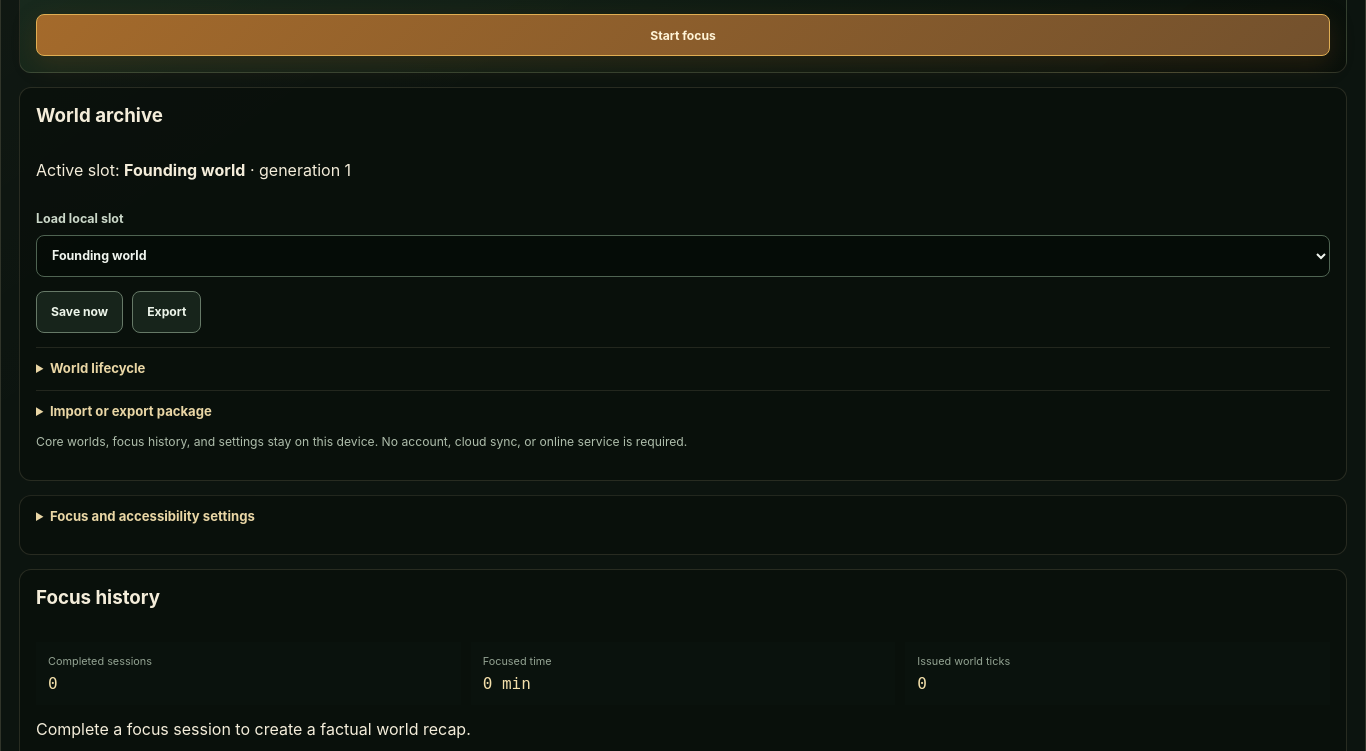
it: FocusPersistencePanel offline progression › persists a focus session after duplicating the current world changes archive authority
(page scrolled)
Click the heading "World lifecycle" at (98, 368), box [50,360,145,376]
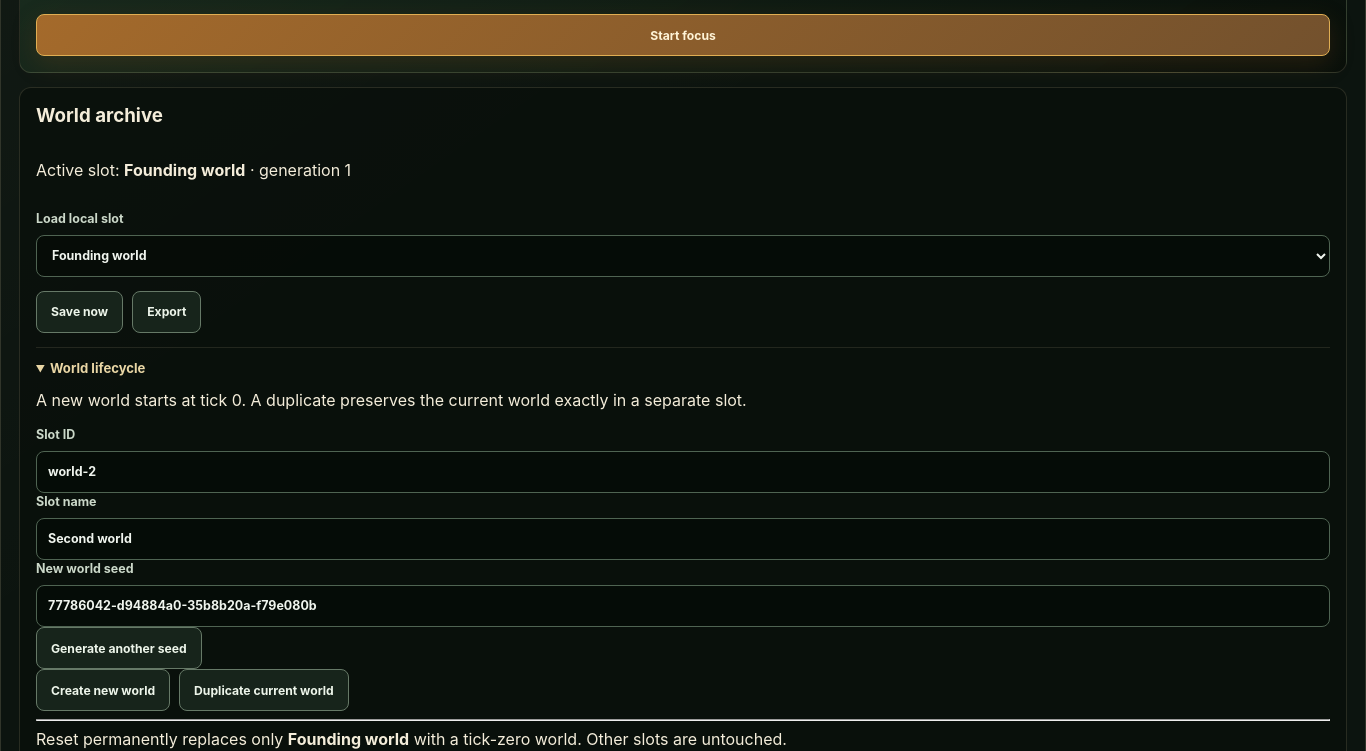
Click the button "Duplicate current world" at (264, 690), box [179,669,349,711]
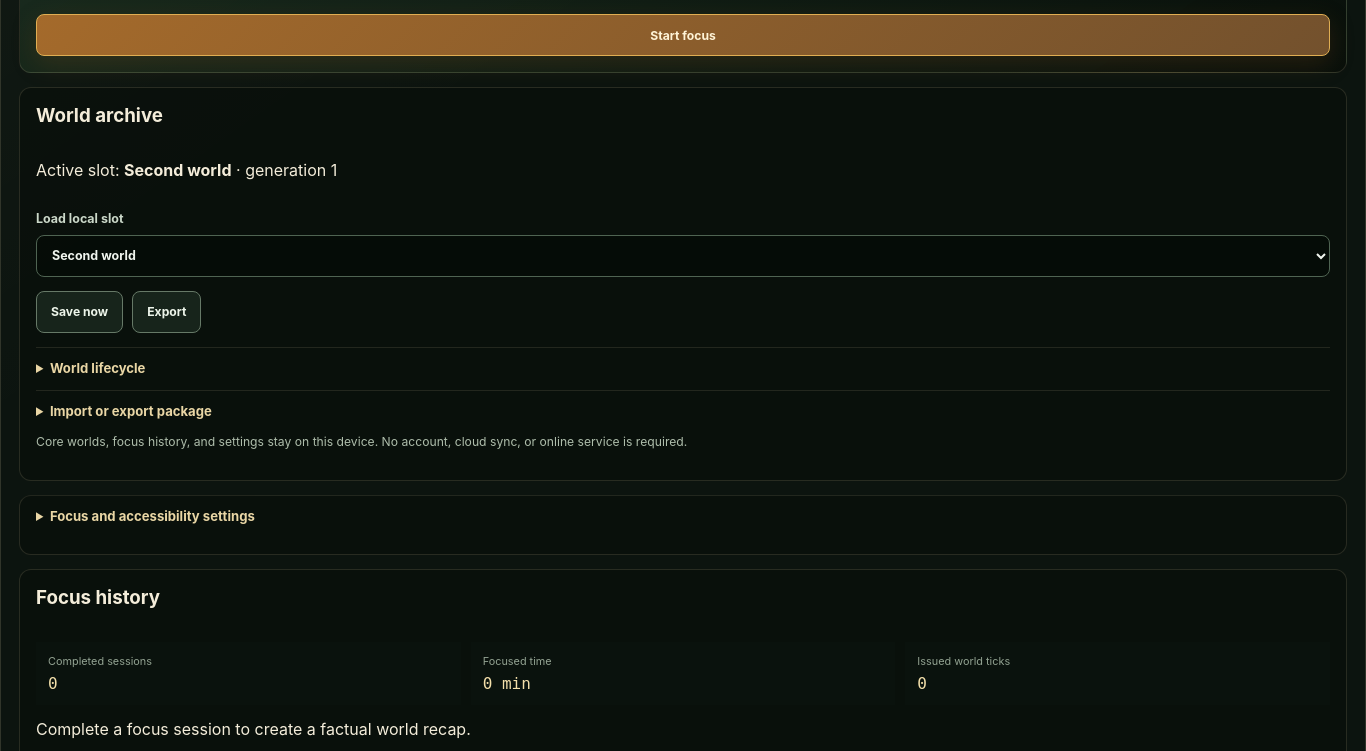
Now the dropdown labelled "Load local slot" shows "Second world", box [36,235,1330,277]
Click the button "Start focus" at (683, 35), box [36,14,1330,56]
(page scrolled)
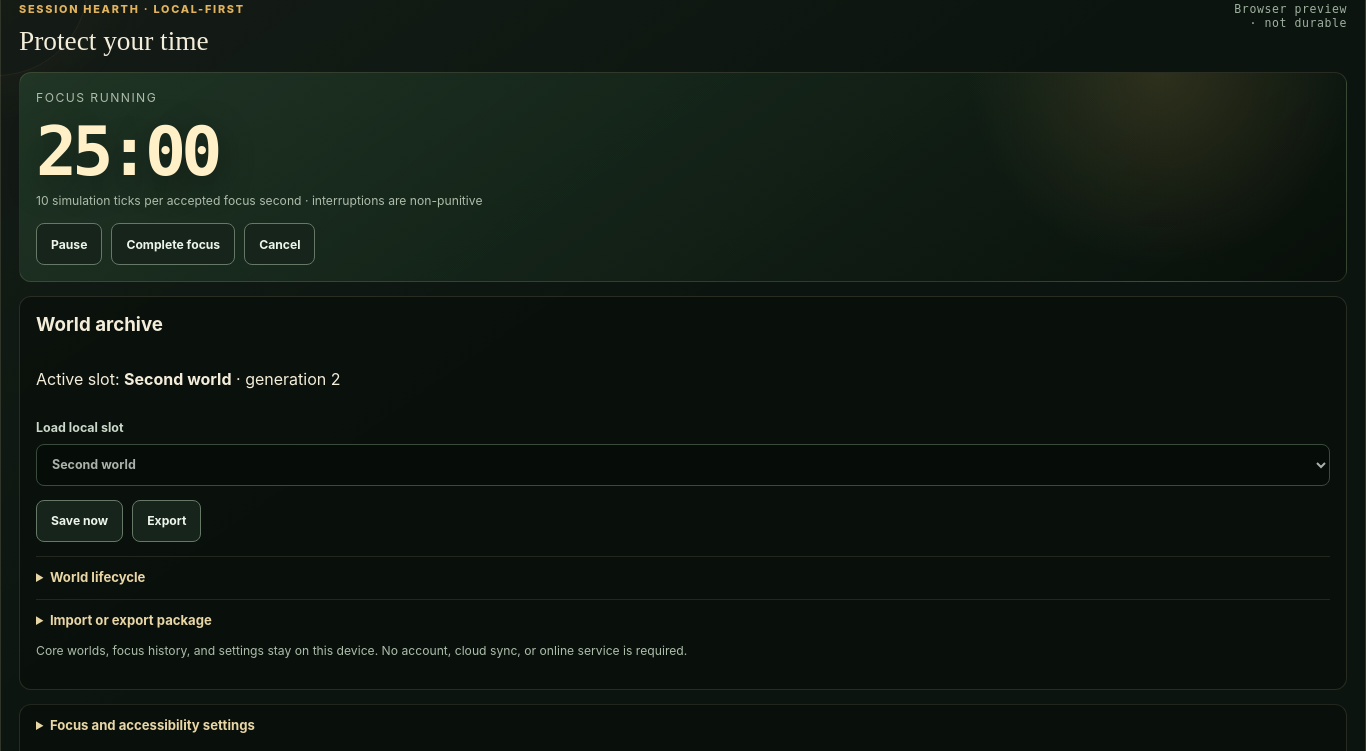
Click the button "Complete focus" at (173, 244), box [111,223,235,265]
(page scrolled)
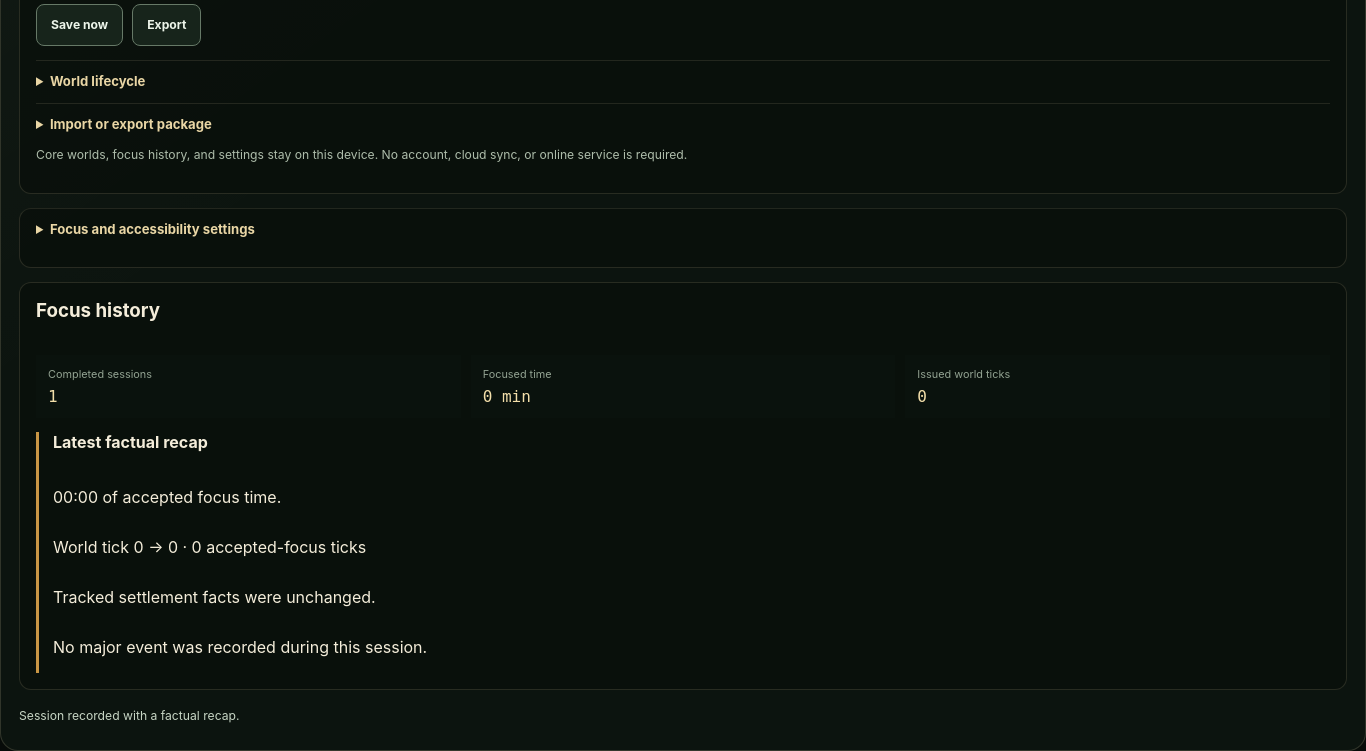
Now the text "Session recorded with a factual recap." is shown, box [19,708,240,723]
